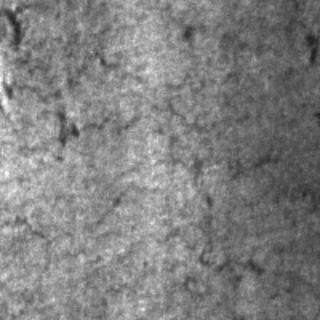crazing: (0, 37, 142, 157), (154, 70, 274, 186), (155, 203, 289, 275)
